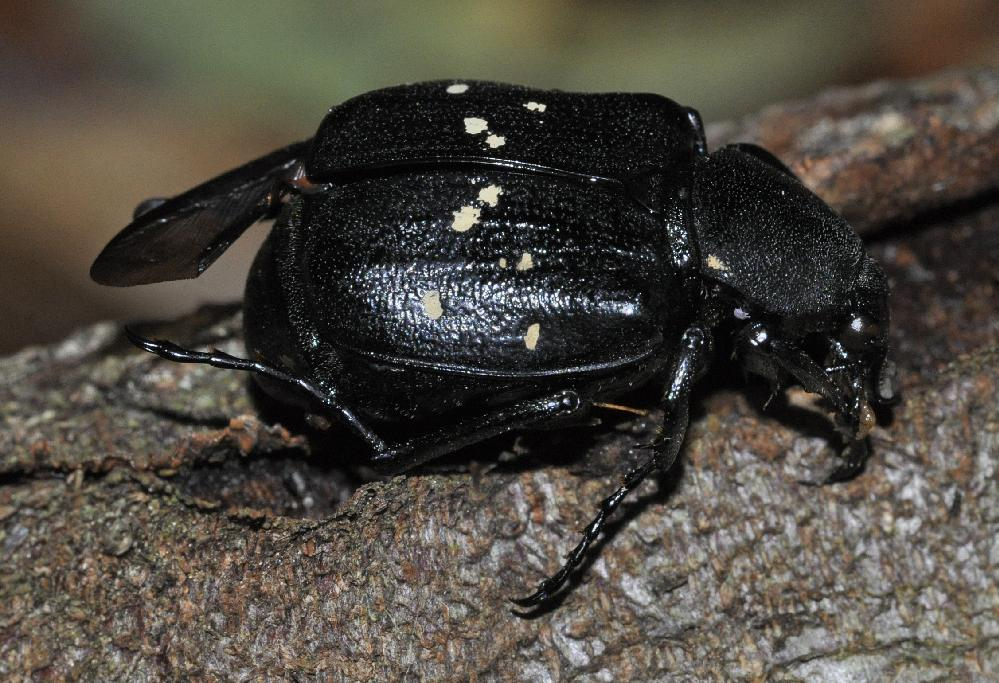Gnorimus_variabilis: (88, 64, 907, 616)
